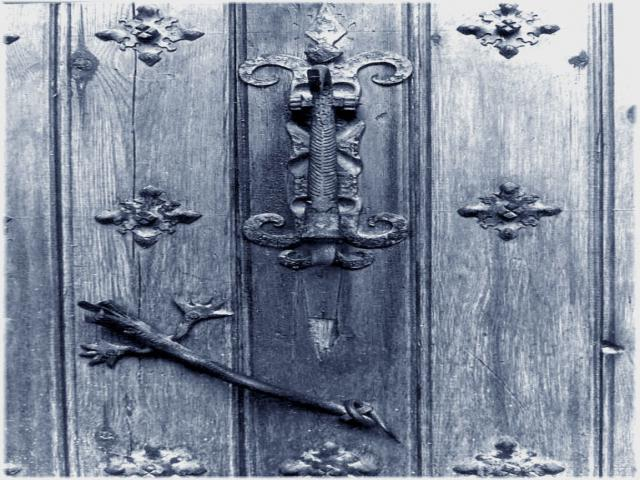Door-handle: (240, 0, 414, 270)
